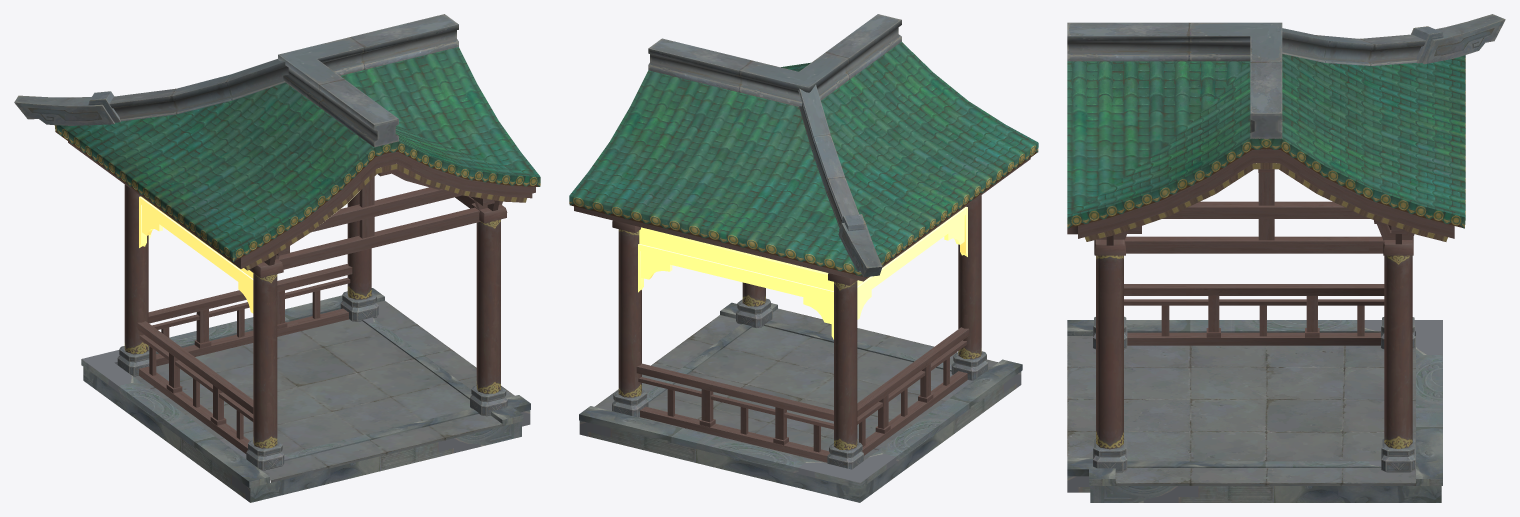
File: Homeworld_Exterior_Ly_Build_House_24_Lod0.fbx
3 views of the same model, side by side, from view 1: azimuth 30°, elevation 25°; view 2: azimuth 150°, elevation 25°; view 3: azimuth 270°, elevation 25° (orthographic). The views are drawn at different scales.
Visible parts, largest first — view 1: Homeworld_Exterior_Ly_Build_House_24_Lod0; view 2: Homeworld_Exterior_Ly_Build_House_24_Lod0; view 3: Homeworld_Exterior_Ly_Build_House_24_Lod0.
Part boxes in pixels (x1,y1,x2,y2): Homeworld_Exterior_Ly_Build_House_24_Lod0: [14, 14, 540, 502]; Homeworld_Exterior_Ly_Build_House_24_Lod0: [569, 14, 1038, 502]; Homeworld_Exterior_Ly_Build_House_24_Lod0: [1067, 14, 1505, 502].
Size of what is drawn, in the model's own units: 6.66 by 6.58 by 6.72.
